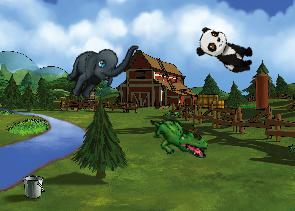crocodile: (147, 117, 210, 159)
elephant: (61, 26, 139, 111)
panda: (192, 24, 259, 77)
